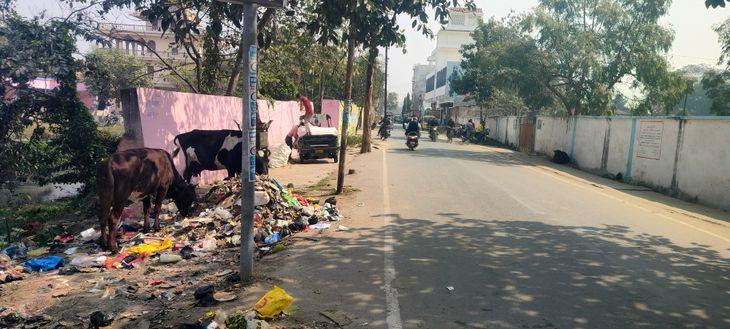road: (240, 135, 730, 329)
sky: (662, 0, 730, 68), (388, 17, 435, 101), (475, 1, 538, 19)
trash: (255, 175, 302, 241), (202, 177, 241, 221)
